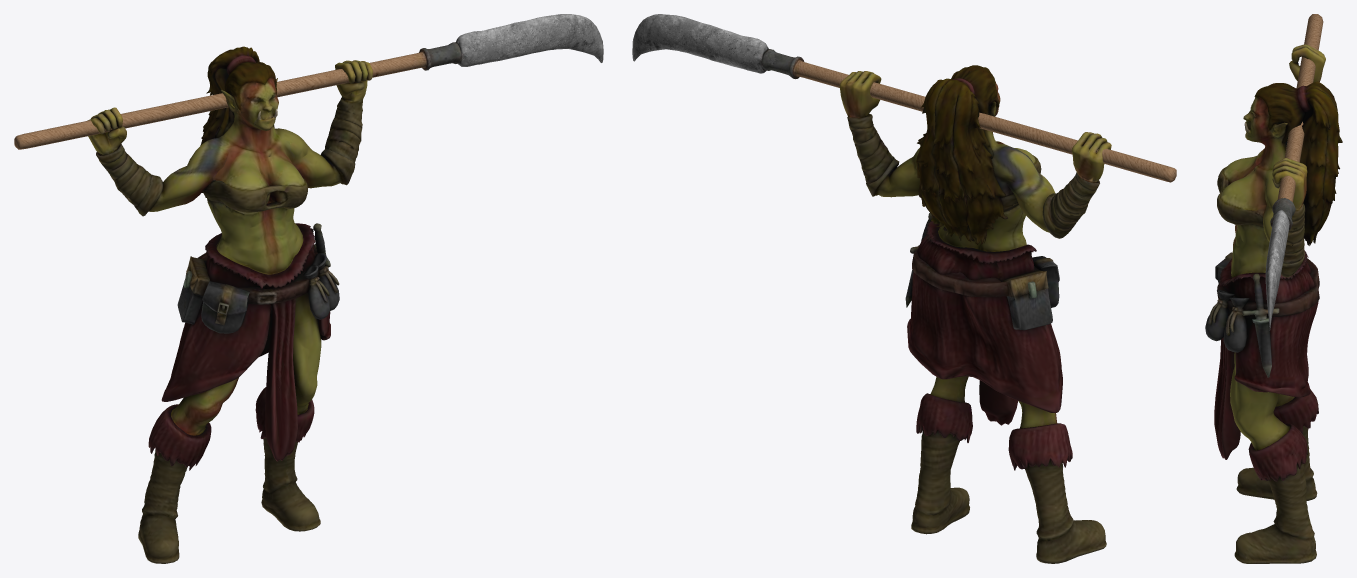
File: MZ4250 - Half Orc Female Barbarian_red_glaive.glb
3 renders of one model, left to right at view 1: azimuth 30°, elevation 25°; view 2: azimuth 150°, elevation 25°; view 3: azimuth 270°, elevation 25°, orthographic.
Visible parts, largest first — view 1: Glaive.001; view 2: Glaive.001; view 3: Glaive.001.
Part boxes in pixels (<box>): Glaive.001: <box>14,14,603,563</box>; Glaive.001: <box>632,14,1176,563</box>; Glaive.001: <box>1205,14,1342,563</box>.
Bounding box in the file's own units: 52.26 × 40.82 × 11.15.
2 materials, 2 textured.
